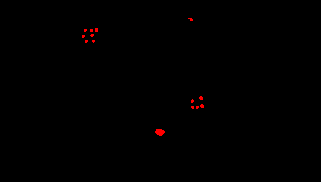Target: (155, 129, 165, 136), (199, 96, 203, 100), (200, 104, 204, 108), (188, 18, 193, 21), (95, 28, 98, 32), (90, 34, 94, 37), (191, 99, 194, 103), (84, 29, 87, 32), (90, 29, 93, 32), (82, 35, 85, 38), (85, 40, 88, 43), (92, 40, 95, 43), (191, 106, 194, 109), (196, 106, 199, 109)
